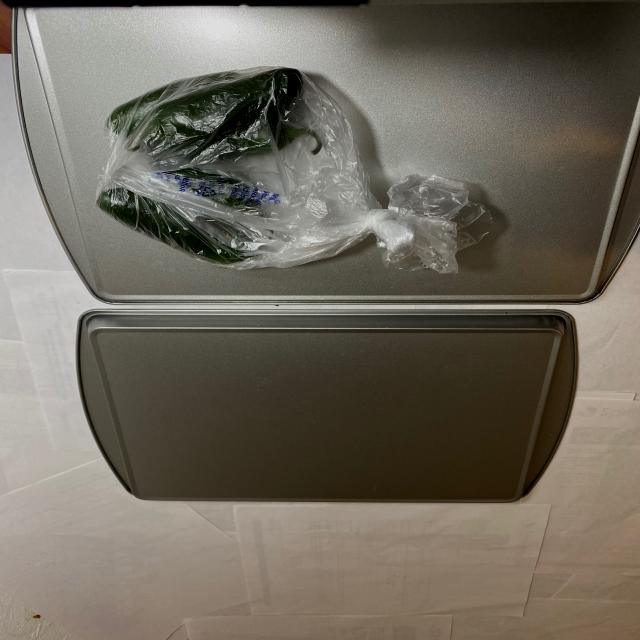chilli: (96, 66, 330, 266)
